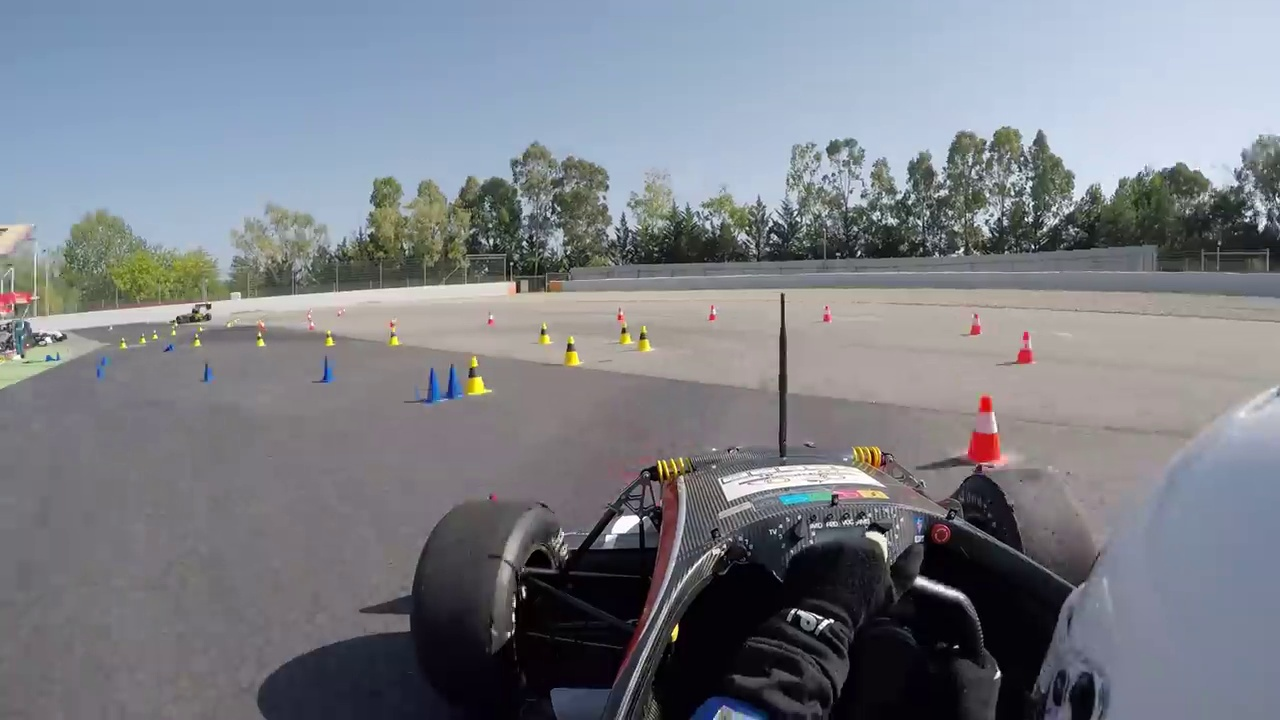Cone: (961, 391, 1012, 462), (465, 356, 491, 395), (559, 332, 584, 368), (1016, 330, 1039, 368), (423, 366, 445, 402), (441, 364, 463, 400), (636, 323, 654, 353)
